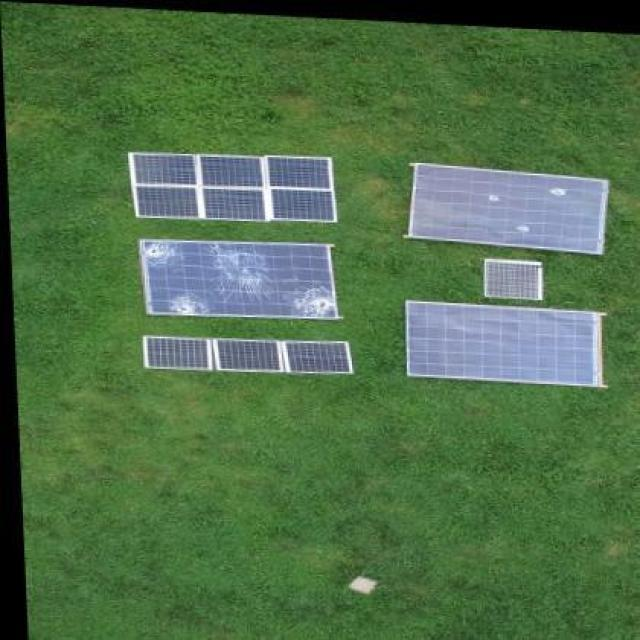cracked: (138, 238, 344, 320)
soiled: (406, 160, 610, 254)
